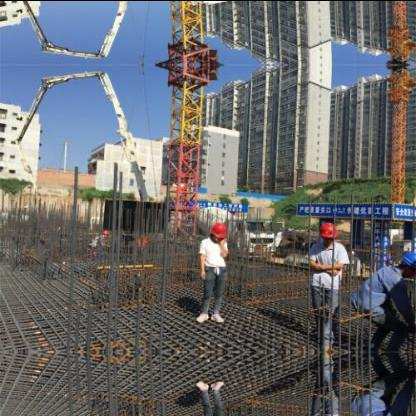Helmet: (396, 248, 414, 280), (317, 221, 337, 245), (206, 220, 226, 240)
